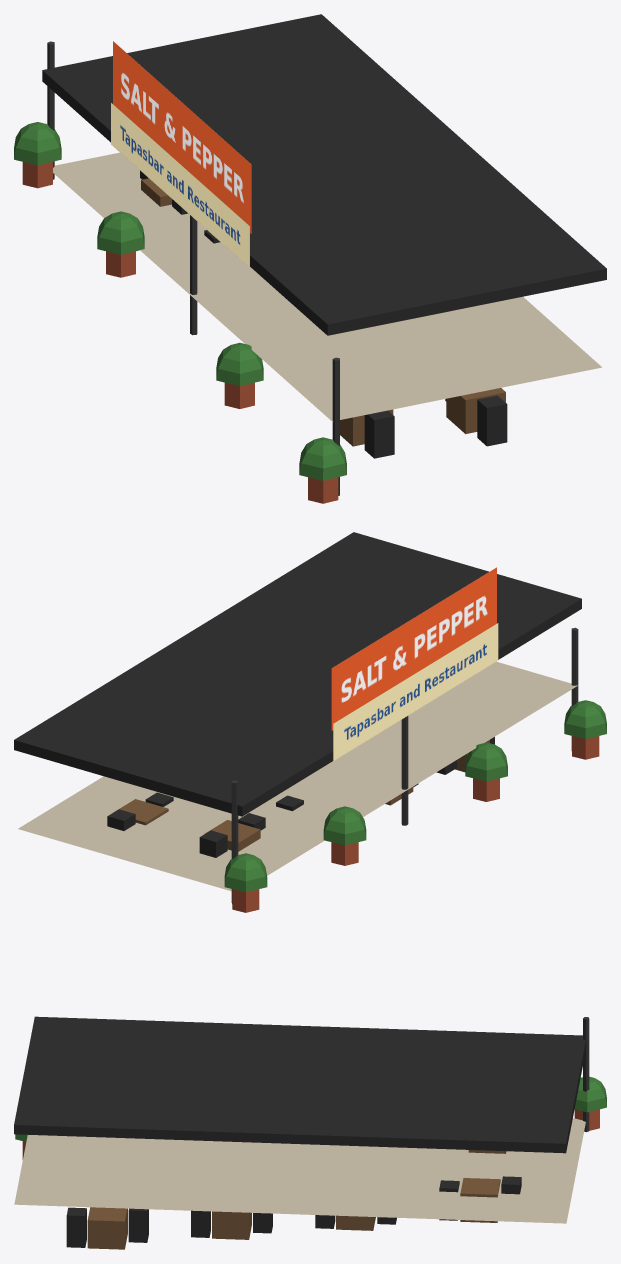
File: saltpepper.glb
3 views of the same model, one above another, from view 1: azimuth 30°, elevation 25°; view 2: azimuth 150°, elevation 25°; view 3: azimuth 270°, elevation 25° (orthographic). The views are drawn at different scales.
Visible parts, largest first — view 1: saltpepper_lod0; view 2: saltpepper_lod0; view 3: saltpepper_lod0.
Part boxes in pixels (box(x1,y1,x2,y2)): saltpepper_lod0: box(14, 14, 606, 503); saltpepper_lod0: box(14, 532, 606, 912); saltpepper_lod0: box(14, 1016, 606, 1249).
Size of what is drawn, in the model's own units: 7.91 by 6.1 by 14.31.
9 materials, 1 textured.
